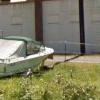Boat: (0, 27, 54, 87)
